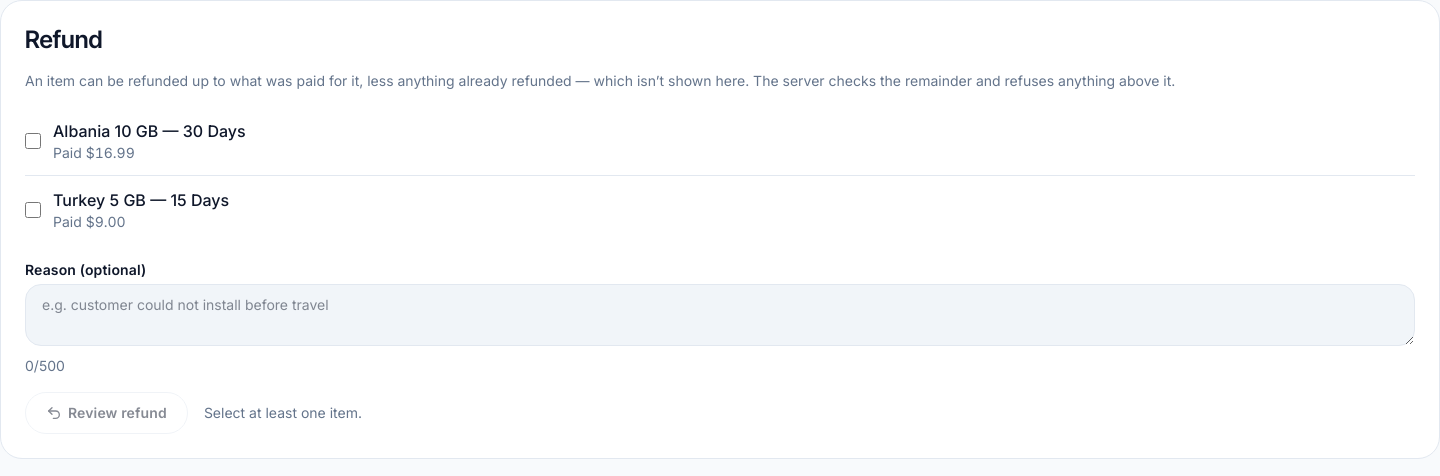
it: building the allocation › prefills the amount paid for the item, so the common case is one click
Click the 1st checkbox at [33, 141], box [25,133,41,149]
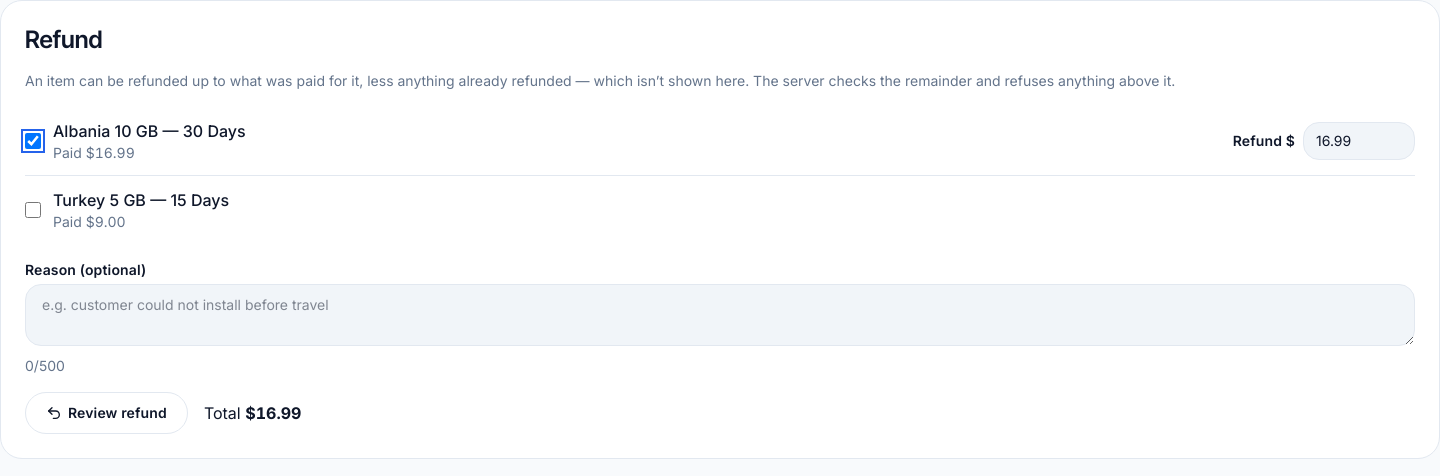
Check: the number field named "refund amount for Albania" holds "16.99", box [1303,122,1415,160]
